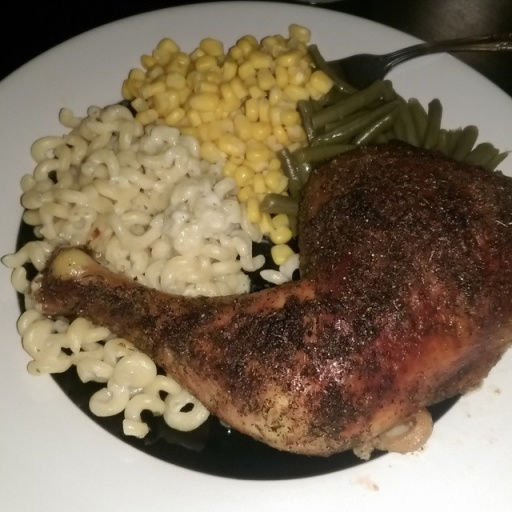background: (0, 19, 410, 367)
